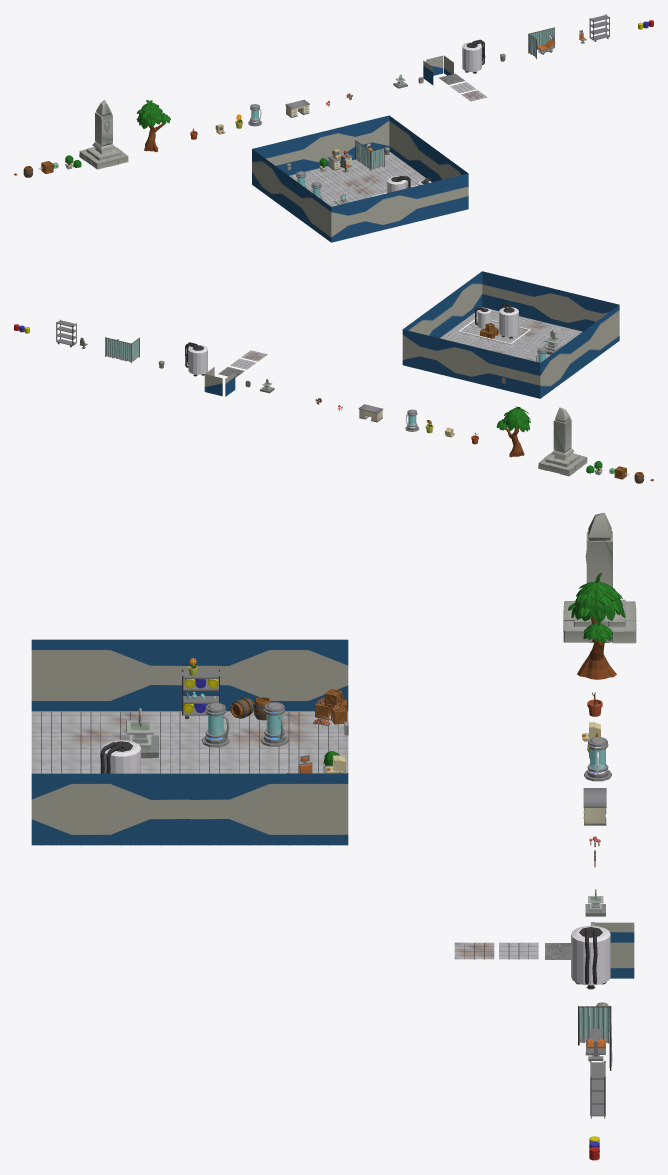
Rendered from Laboratorio.fbx_Scene_Scene_Collection.fbx.
The picture shows the model from 3 angles, top to bottom: view 1: azimuth 30°, elevation 25°; view 2: azimuth 150°, elevation 25°; view 3: azimuth 270°, elevation 25°; orthographic projection. The views are drawn at different scales.
Parts seen in each view (by area): view 1: Paredes.001, Paredes.003, PisoLab, Paredes.004, Paredes.002, Obelisco, Arvore, Tanque, Cortinas, Estante, Tanques; view 2: Paredes.003, Paredes.001, Paredes.004, PisoLab, Paredes.002, Obelisco, Tanques, Arvore, Tanque, CortinaLonga.002, Estante, MesaLaboratorio (+1 smaller); view 3: Paredes.002, Paredes.004, PisoLab, Obelisco, Arvore, Tanque, EstanteCompleta, Tanques, Cortina.002, PedestalLab, CapsulasContecao.001, ParedeBaixa.
Boxes of the visible parts, bbox=[...] form: Paredes.001: bbox=[331, 173, 468, 242]; Paredes.003: bbox=[252, 115, 389, 175]; PisoLab: bbox=[289, 152, 455, 212]; Paredes.004: bbox=[252, 149, 331, 242]; Paredes.002: bbox=[389, 115, 468, 182]; Obelisco: bbox=[79, 99, 128, 169]; Arvore: bbox=[136, 100, 170, 152]; Tanque: bbox=[462, 39, 485, 73]; Cortinas: bbox=[355, 140, 384, 170]; Estante: bbox=[589, 14, 609, 41]; Tanques: bbox=[387, 176, 431, 193]; Paredes.003: bbox=[402, 329, 540, 398]; Paredes.001: bbox=[482, 271, 619, 331]; Paredes.004: bbox=[540, 305, 619, 398]; PisoLab: bbox=[440, 307, 582, 361]; Paredes.002: bbox=[403, 271, 482, 338]; Obelisco: bbox=[538, 407, 587, 476]; Tanques: bbox=[475, 303, 518, 338]; Arvore: bbox=[496, 406, 530, 457]; Tanque: bbox=[185, 342, 207, 376]; CortinaLonga.002: bbox=[105, 337, 131, 363]; Estante: bbox=[56, 319, 76, 347]; MesaLaboratorio: bbox=[358, 404, 383, 422]; Paredes.002: bbox=[31, 773, 348, 845]; Paredes.004: bbox=[31, 639, 348, 711]; PisoLab: bbox=[31, 711, 348, 845]; Obelisco: bbox=[563, 512, 636, 643]; Arvore: bbox=[568, 572, 625, 679]; Tanque: bbox=[571, 925, 610, 989]; EstanteCompleta: bbox=[182, 658, 219, 718]; Tanques: bbox=[100, 740, 140, 773]; Cortina.002: bbox=[578, 1006, 610, 1045]; PedestalLab: bbox=[121, 720, 158, 758]; CapsulasContecao.001: bbox=[201, 703, 229, 747]; ParedeBaixa: bbox=[610, 942, 634, 978].
Size of the model in its own units: 7442 by 711 by 3055.
